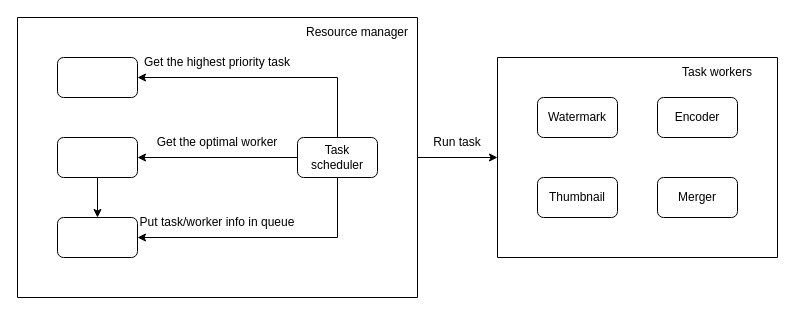
Some shapes in this 795 by 315 pixel diagram are drawn without their labels. The centre of each missing label's shape, as x and y in pixels:
"Running queue" belongs at [97,237].
"Task queue" belongs at [97,77].
"Worker queue" belongs at [97,157].
